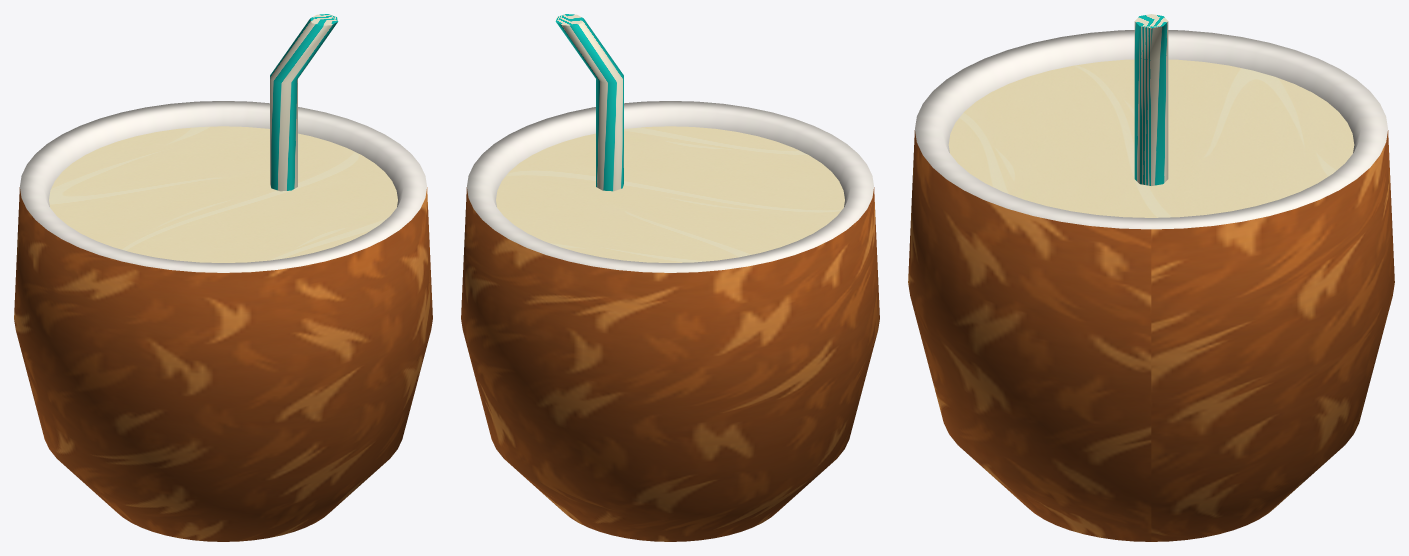
The model's file is coconut_drink-BFQY6MnF.glb.
3 views of the same model, side by side, from view 1: azimuth 30°, elevation 25°; view 2: azimuth 150°, elevation 25°; view 3: azimuth 270°, elevation 25° (orthographic). The views are drawn at different scales.
Visible parts, largest first — view 1: HI_coconut_drink; view 2: HI_coconut_drink; view 3: HI_coconut_drink.
Boxes of the visible parts, bbox=[...] form: HI_coconut_drink: bbox=[14, 14, 432, 541]; HI_coconut_drink: bbox=[461, 14, 879, 541]; HI_coconut_drink: bbox=[908, 14, 1394, 541].
Size of the model in its own units: 0.72 by 0.85 by 0.72.
1 material, 1 textured.
